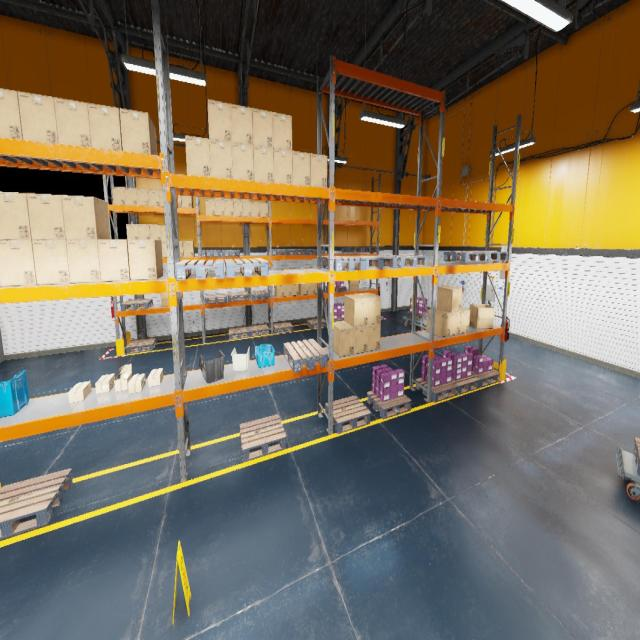box: (61, 195, 110, 239), (18, 92, 58, 144), (26, 193, 66, 240), (54, 97, 91, 147), (120, 108, 157, 155), (0, 240, 37, 286), (32, 240, 70, 284), (88, 102, 122, 150), (0, 192, 32, 240), (66, 240, 101, 283), (127, 240, 163, 280), (98, 240, 130, 282), (0, 89, 23, 140), (185, 135, 210, 177), (208, 99, 232, 142), (230, 104, 253, 145), (209, 140, 233, 178), (232, 142, 254, 181), (252, 108, 273, 147), (253, 145, 274, 183), (344, 294, 368, 326), (273, 112, 292, 151), (358, 292, 381, 324), (333, 321, 354, 356), (426, 308, 451, 337), (437, 286, 462, 312), (292, 150, 310, 186), (274, 148, 292, 184), (438, 308, 460, 335), (310, 154, 327, 188), (470, 305, 494, 328), (114, 364, 132, 392), (68, 381, 91, 402), (354, 325, 368, 354), (95, 374, 115, 394), (128, 374, 146, 394), (368, 324, 380, 352), (148, 368, 163, 386), (460, 308, 470, 333), (124, 187, 137, 205), (136, 188, 149, 205), (112, 187, 125, 204), (148, 189, 160, 206), (126, 224, 139, 239), (183, 241, 195, 257), (149, 224, 161, 240), (138, 224, 150, 239), (205, 199, 215, 215), (181, 196, 193, 208), (215, 200, 224, 216), (251, 202, 260, 217), (224, 201, 233, 216), (242, 202, 251, 216), (274, 285, 284, 297), (234, 201, 242, 216), (160, 293, 169, 306), (260, 203, 268, 217), (348, 280, 359, 290), (299, 283, 308, 295), (284, 284, 292, 296), (161, 241, 167, 257), (160, 224, 166, 240), (159, 190, 164, 206), (308, 283, 315, 294), (292, 284, 298, 296), (179, 241, 183, 257), (178, 195, 182, 207), (315, 283, 317, 293), (161, 242, 162, 255), (0, 281, 1, 286)
pallets: (0, 468, 73, 539), (240, 414, 286, 462), (325, 395, 371, 434), (284, 339, 327, 373), (367, 391, 411, 419), (415, 377, 458, 402), (175, 259, 224, 280), (225, 258, 268, 278), (322, 256, 366, 271), (352, 255, 397, 269), (386, 255, 428, 268), (452, 375, 479, 394), (125, 338, 156, 354), (443, 251, 488, 262), (472, 370, 499, 388), (469, 251, 508, 261), (120, 298, 152, 310), (228, 326, 250, 339), (248, 324, 270, 337), (205, 293, 227, 304), (274, 322, 294, 334), (634, 438, 640, 477), (228, 292, 249, 302), (306, 318, 327, 328), (406, 311, 427, 321), (250, 290, 269, 300), (201, 250, 221, 257), (285, 249, 306, 255), (326, 286, 347, 292), (342, 247, 362, 253), (221, 250, 240, 256), (304, 249, 325, 254), (272, 249, 288, 255), (361, 247, 376, 252), (327, 317, 344, 321)
